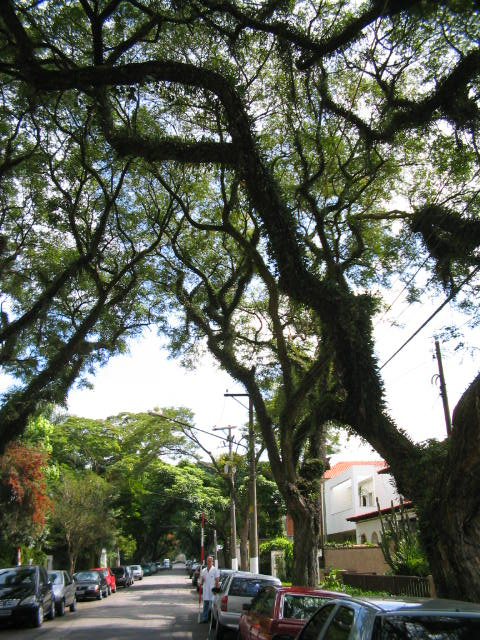stem: (282, 510, 336, 626)
stick: (192, 508, 207, 624)
tree: (141, 4, 476, 627)
